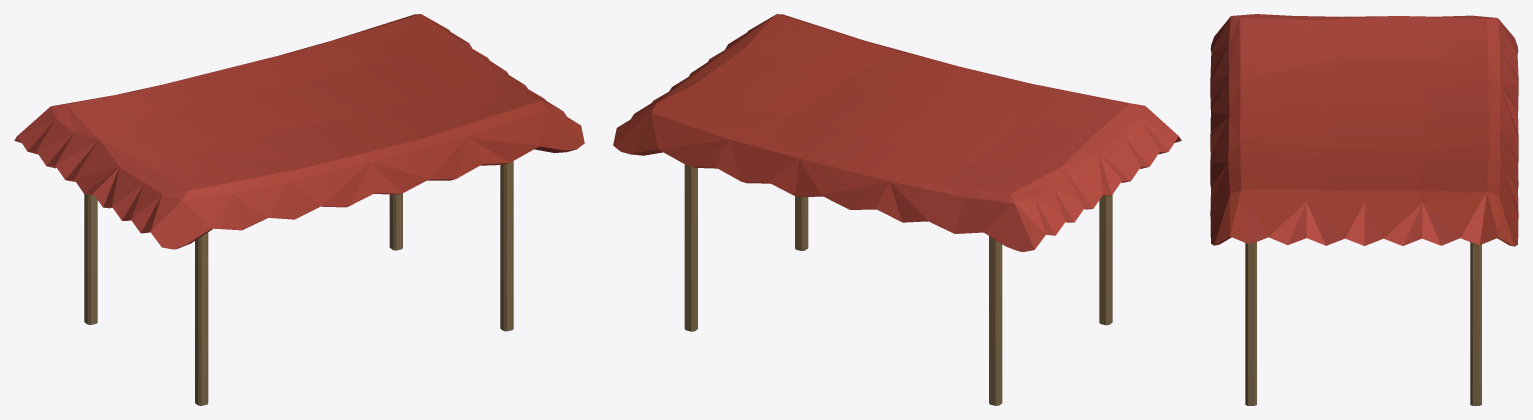
File: Drap.fbx
3 renders of one model, left to right at view 1: azimuth 30°, elevation 25°; view 2: azimuth 150°, elevation 25°; view 3: azimuth 270°, elevation 25°, orthographic. The views are drawn at different scales.
Parts seen in each view (by area): view 1: Drap; view 2: Drap; view 3: Drap.
Part boxes in pixels (x1=…): Drap: x1=14, y1=14, x2=584, y2=405; Drap: x1=613, y1=14, x2=1181, y2=405; Drap: x1=1210, y1=14, x2=1518, y2=405.
Size of the model in its own units: 6.3 by 3.82 by 3.12.
1 material, 1 textured.
